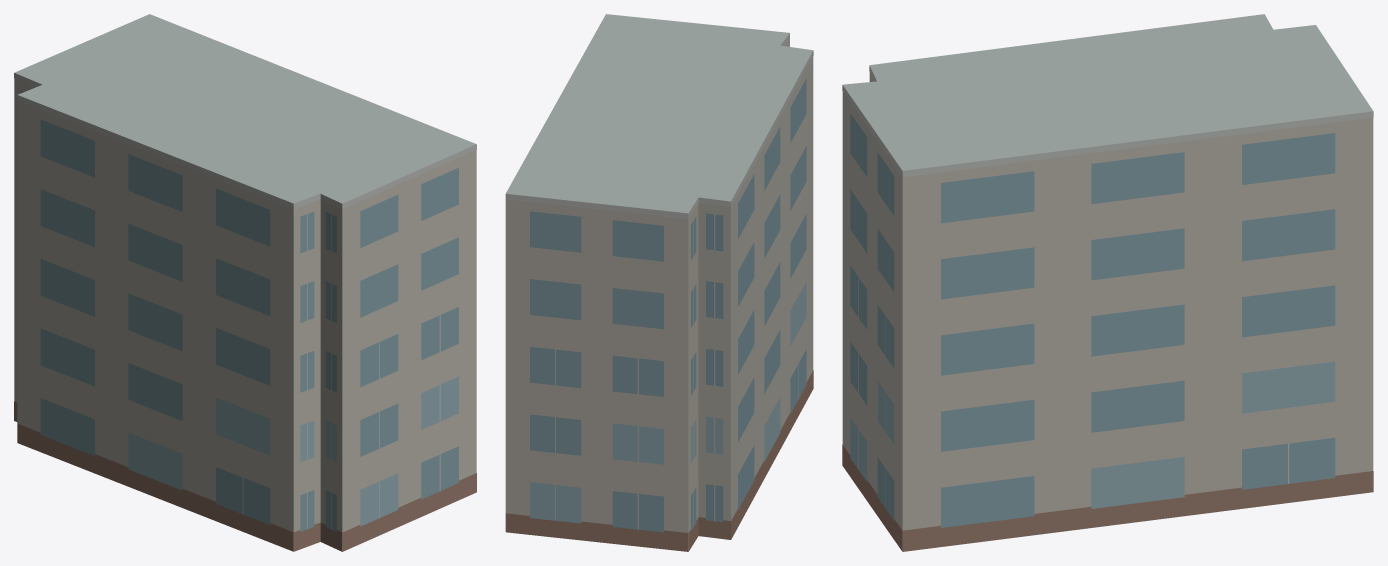
Rendered from survey-upis-32579176.glb.
The picture shows the model from 3 angles, left to right: view 1: azimuth 30°, elevation 25°; view 2: azimuth 150°, elevation 25°; view 3: azimuth 270°, elevation 25°; orthographic projection. The views are drawn at different scales.
Visible parts, largest first — view 1: survey-upis-32579176.tmp; view 2: survey-upis-32579176.tmp; view 3: survey-upis-32579176.tmp.
Part boxes in pixels (x1=…): survey-upis-32579176.tmp: x1=14, y1=14, x2=476, y2=551; survey-upis-32579176.tmp: x1=505, y1=14, x2=813, y2=551; survey-upis-32579176.tmp: x1=842, y1=14, x2=1373, y2=551.
Bounding box in the file's own units: 13.09 × 14.8 × 18.71.
